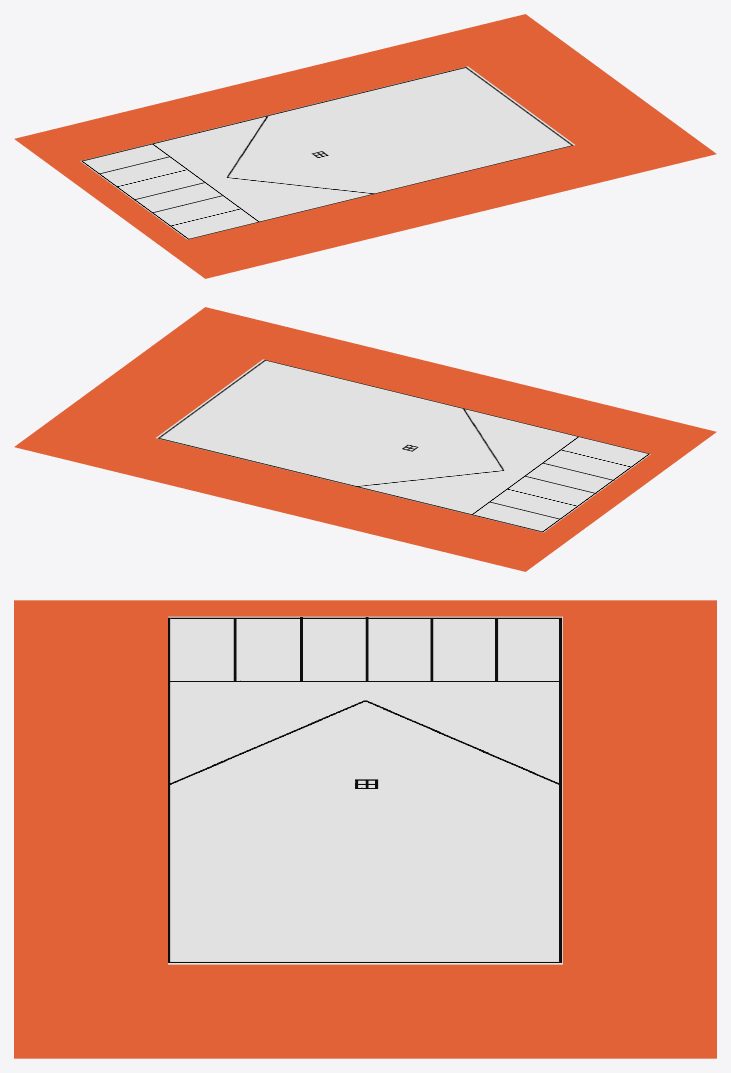
The model's file is colnivel123.glb.
3 renders of one model, top to bottom at view 1: azimuth 30°, elevation 25°; view 2: azimuth 150°, elevation 25°; view 3: azimuth 270°, elevation 25°, orthographic. The views are drawn at different scales.
Visible parts, largest first — view 1: Plano.001, Plano; view 2: Plano.001, Plano; view 3: Plano.001, Plano.
Boxes of the visible parts, <box> form: Plano.001: <box>14,14,716,278</box>; Plano: <box>80,66,574,239</box>; Plano.001: <box>14,307,716,571</box>; Plano: <box>156,359,650,532</box>; Plano.001: <box>14,600,716,1058</box>; Plano: <box>168,616,562,964</box>.
Bounding box in the file's own units: 16.48 × 0.0817 × 10.68.
Materials: 2 (1 with a texture image).
